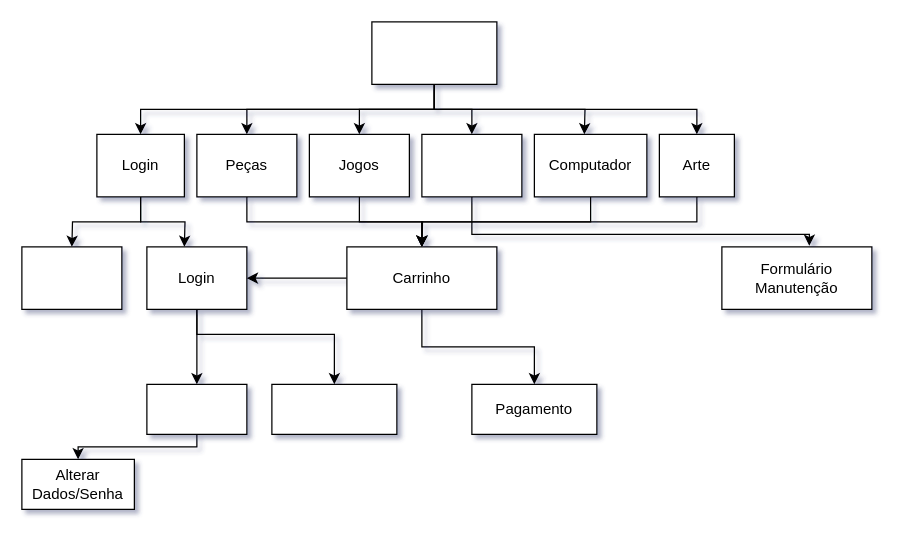
The diagram is 901 pixels wide and 539 high, and some of its shapes have lost their labels. Each missing label, with the box of its shape:
Cadastro: (21, 246, 122, 309)
Compras: (271, 383, 397, 434)
Dados: (146, 383, 247, 434)
Home: (371, 21, 497, 84)
Manutenção: (421, 133, 522, 197)
